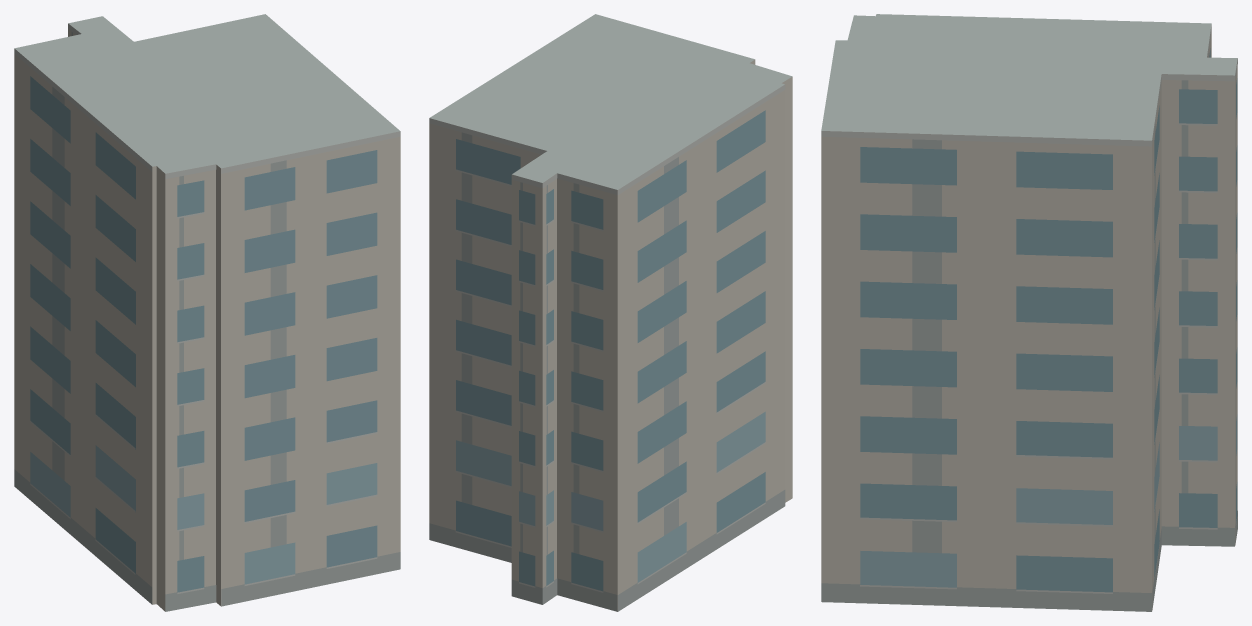
File: survey-upis-32878137.glb
3 views of the same model, side by side, from view 1: azimuth 30°, elevation 25°; view 2: azimuth 150°, elevation 25°; view 3: azimuth 270°, elevation 25° (orthographic). The views are drawn at different scales.
Parts seen in each view (by area): view 1: survey-upis-32878137.tmp; view 2: survey-upis-32878137.tmp; view 3: survey-upis-32878137.tmp.
Part boxes in pixels (x1,y1,x2,y2): survey-upis-32878137.tmp: [14, 14, 400, 611]; survey-upis-32878137.tmp: [429, 14, 792, 611]; survey-upis-32878137.tmp: [821, 14, 1237, 611].
Bounding box in the file's own units: 11.31 × 19.6 × 15.71.
